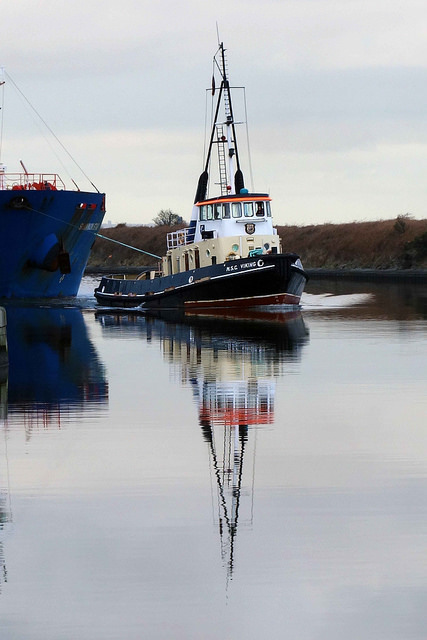tug_boat: (94, 122, 317, 316)
